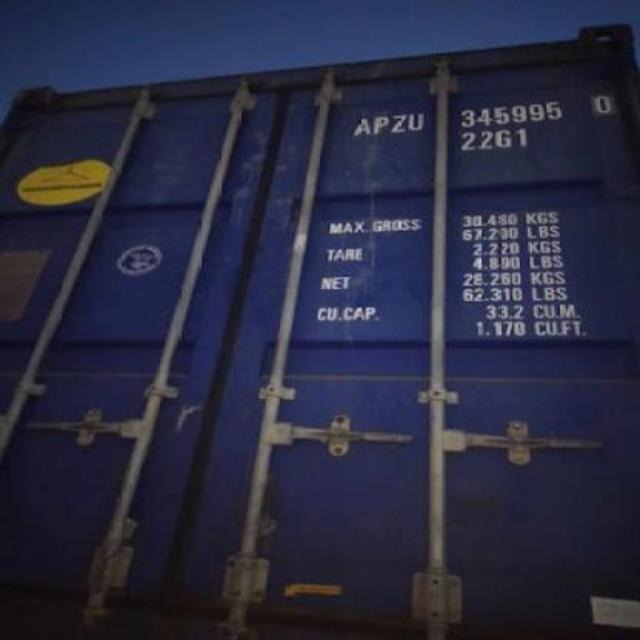0: (592, 90, 616, 116)
3: (458, 98, 474, 128)
4: (478, 96, 494, 128)
5: (542, 92, 566, 121), (494, 94, 510, 128)
9: (528, 94, 542, 124), (510, 99, 526, 125)
A: (346, 110, 372, 140)
P: (370, 108, 388, 142)
U: (408, 106, 428, 138)
Z: (388, 104, 408, 136)
